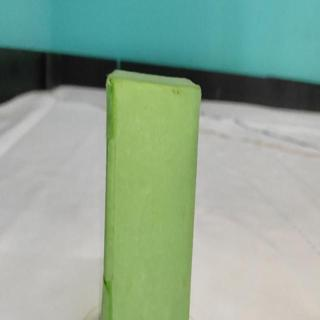greenbox: (101, 61, 201, 320)
